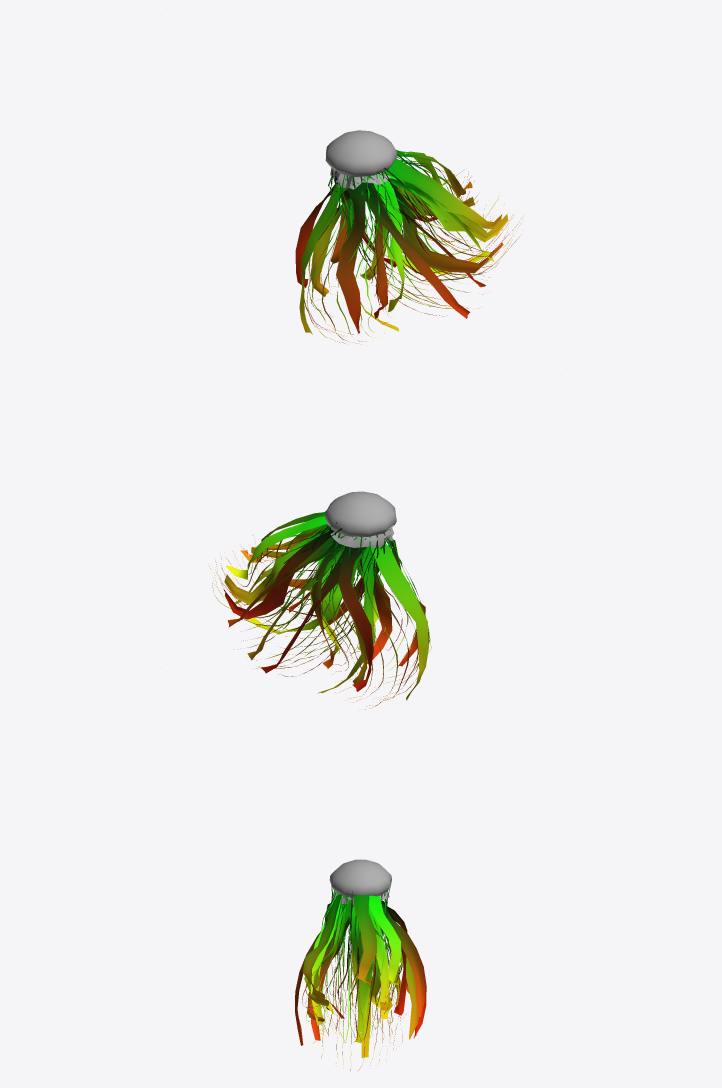
Rendered from Fish_Jellyfish_a_vtx_animated.fbx.
3 views of the same model, one above another, from view 1: azimuth 30°, elevation 25°; view 2: azimuth 150°, elevation 25°; view 3: azimuth 270°, elevation 25° (orthographic). The views are drawn at different scales.
Visible parts, largest first — view 1: JellyInner_01, JellyInner_02, JellyInner_00, JellyCap_a_vtx; view 2: JellyInner_01, JellyInner_02, JellyInner_00, JellyCap_a_vtx; view 3: JellyInner_02, JellyInner_00, JellyCap_a_vtx, JellyInner_01.
Boxes of the visible parts, left/top/right/bottom form: JellyInner_01: left=295, top=172, right=404, bottom=343; JellyInner_02: left=345, top=150, right=521, bottom=282; JellyInner_00: left=332, top=168, right=493, bottom=331; JellyCap_a_vtx: left=14, top=14, right=707, bottom=307; JellyInner_01: left=310, top=527, right=431, bottom=709; JellyInner_02: left=209, top=510, right=366, bottom=634; JellyInner_00: left=227, top=525, right=391, bottom=693; JellyCap_a_vtx: left=14, top=375, right=707, bottom=668; JellyInner_02: left=302, top=880, right=406, bottom=1043; JellyInner_00: left=295, top=891, right=426, bottom=1070; JellyCap_a_vtx: left=14, top=859, right=707, bottom=1032; JellyInner_01: left=304, top=893, right=409, bottom=1037.
Size of the model in its own units: 606 by 173 by 606.
